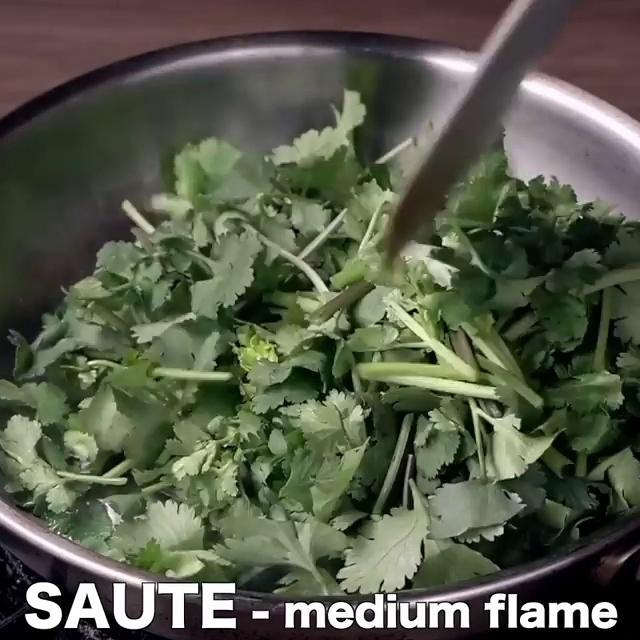cilantro: (38, 234, 640, 566)
